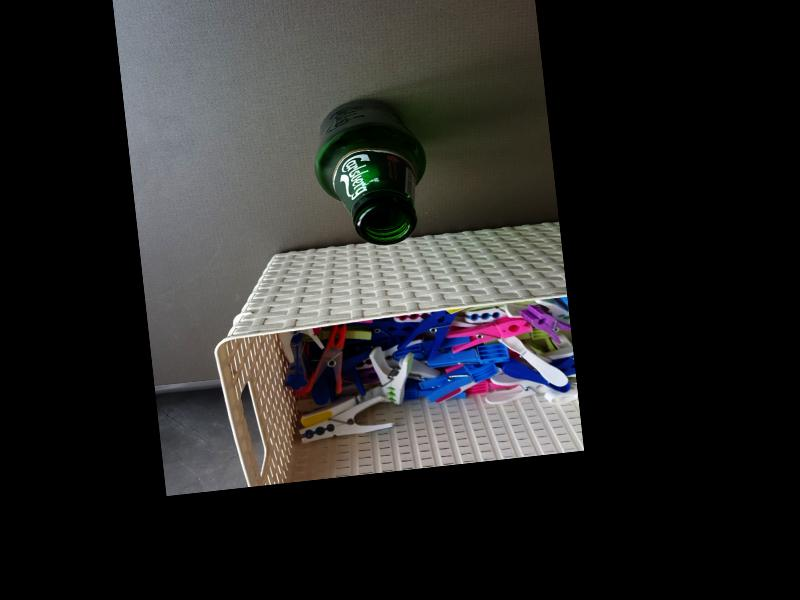Beer: (306, 92, 434, 250)
